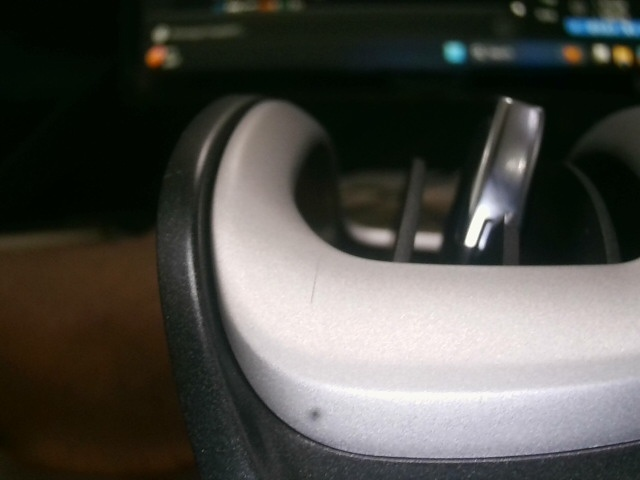NG: (298, 260, 332, 314), (161, 162, 189, 209)
